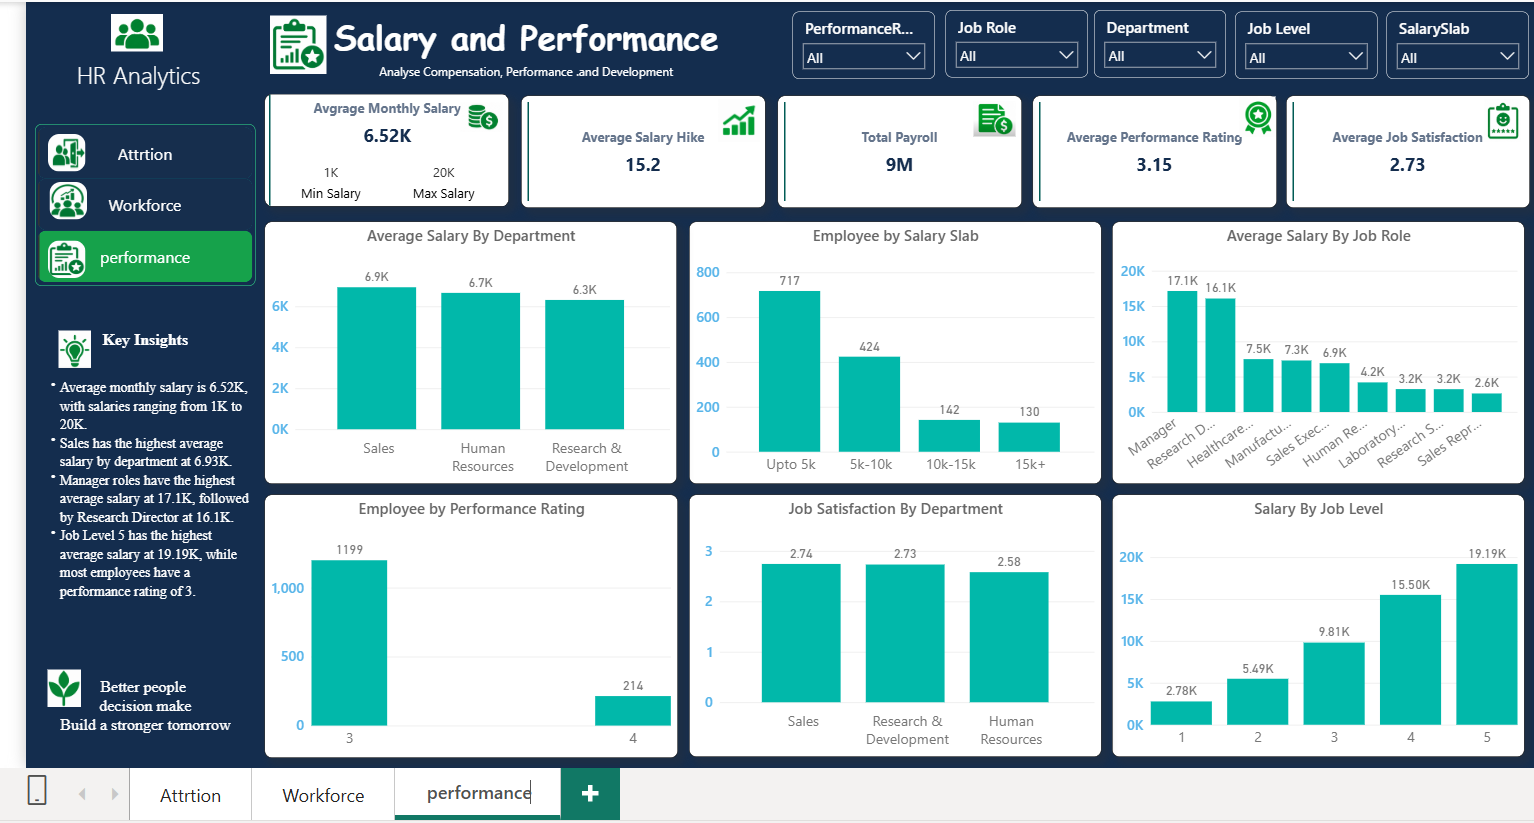

What the dashboard file says about the page in this screenshot:
{"tool":"powerbi","page":{"name":"performance","canvas":[2015,1023],"ordinal":2},"visuals":[{"type":"textbox","title":"Salary and Performance","box":[318,16,698,90],"z":0},{"type":"cardVisual","fields":{"Data":["HR_Analytics.Avg Performance Rating"]},"box":[1342,126,326,150],"z":1000},{"type":"slicer","fields":{"Values":["HR_Analytics.Department"]},"box":[1424,12,176,90],"z":2000},{"type":"cardVisual","fields":{"Data":["HR_Analytics.Avg Job Satisfaction"]},"box":[1680,126,325,150],"z":3000},{"type":"columnChart","title":" Employee by Salary Slab","fields":{"Category":["HR_Analytics.SalarySlab"],"Y":["Count(HR_Analytics.EmpID)"]},"box":[884,294,550,350],"z":4000},{"type":"columnChart","title":"Average Salary By Department","fields":{"Category":["HR_Analytics.Department"],"Y":["HR_Analytics.Avg Salary"]},"box":[318,294,550,350],"z":5000},{"type":"clusteredColumnChart","title":"Average Salary By Job Role","fields":{"Y":["HR_Analytics.Avg Salary"],"Category":["HR_Analytics.JobRole"]},"box":[1448,294,550,350],"z":6000},{"type":"cardVisual","fields":{"Data":["HR_Analytics.Total Payroll"]},"box":[1002,126,326,150],"z":7000},{"type":"clusteredColumnChart","title":"Employee by Performance Rating","fields":{"Y":["CountNonNull(HR_Analytics.EmpID)"],"Category":["HR_Analytics.PerformanceRating"]},"box":[317.8,657.8,551.1,351.1],"z":8000},{"type":"columnChart","title":"Salary By Job Level","fields":{"Y":["Avg(HR_Analytics.MonthlyIncome)"],"Category":["HR_Analytics.JobLevel"]},"box":[1448,658,550,350],"z":9000},{"type":"cardVisual","fields":{"Data":["HR_Analytics.Avg Salary"]},"box":[318,124,326,150],"z":10000},{"type":"slicer","fields":{"Values":["HR_Analytics.SalarySlab"]},"box":[1814,14,190,90],"z":11000},{"type":"slicer","fields":{"Values":["HR_Analytics.JobLevel"]},"box":[1612,14,190,90],"z":12000},{"type":"slicer","fields":{"Values":["HR_Analytics.PerformanceRating"]},"box":[1022,14,190,90],"z":13000},{"type":"slicer","fields":{"Values":["HR_Analytics.JobRole"]},"box":[1226,12,190,90],"z":14000},{"type":"columnChart","title":"Job Satisfaction By Department","fields":{"Category":["HR_Analytics.Department"],"Y":["Avg(HR_Analytics.JobSatisfaction)"]},"box":[884,658,550,350],"z":15000},{"type":"image","box":[1610,122,64,64],"z":16000},{"type":"image","box":[1258,124,66,66],"z":17000},{"type":"image","box":[920,124,65,65],"z":18000},{"type":"image","box":[1936,126,66,66],"z":19000},{"type":"image","box":[318,14,90,88],"z":20000},{"type":"textbox","box":[12,434,294,422],"z":21000},{"type":"cardVisual","fields":{"Data":["HR_Analytics.Average Salary Hike"]},"box":[660,126,326,150],"z":22000},{"type":"image","box":[918,126,66,66],"z":23000},{"type":"image","box":[574,122,66,66],"z":24000},{"type":"pageNavigator","box":[12,164,294,216],"z":25000},{"type":"textbox","box":[12,14,276,110],"z":26000},{"type":"image","box":[108,12,80,60],"z":27000},{"type":"image","box":[24,172,60,60],"z":28000},{"type":"image","box":[24,314,60,60],"z":29000},{"type":"image","box":[26,236,60,60],"z":30000},{"type":"textbox","box":[12,878,294,130],"z":31000},{"type":"image","box":[18,886,66,60],"z":32000},{"type":"image","box":[32,434,66,60],"z":33000}]}

Visuals, with their boxes on the page's 2015x1023 design canvas (x1, y1, x2, y2). These are canvas units, not pixel positions in the 1534x823 screenshot, which may show the page scaled, cropped or inside an application window:
"Salary and Performance" textbox: l=318, t=16, r=1016, b=106
cardVisual - HR_Analytics.Avg Performance Rating: l=1342, t=126, r=1668, b=276
slicer - HR_Analytics.Department: l=1424, t=12, r=1600, b=102
cardVisual - HR_Analytics.Avg Job Satisfaction: l=1680, t=126, r=2005, b=276
" Employee by Salary Slab" columnChart: l=884, t=294, r=1434, b=644
"Average Salary By Department" columnChart: l=318, t=294, r=868, b=644
"Average Salary By Job Role" clusteredColumnChart: l=1448, t=294, r=1998, b=644
cardVisual - HR_Analytics.Total Payroll: l=1002, t=126, r=1328, b=276
"Employee by Performance Rating" clusteredColumnChart: l=318, t=658, r=869, b=1009
"Salary By Job Level" columnChart: l=1448, t=658, r=1998, b=1008
cardVisual - HR_Analytics.Avg Salary: l=318, t=124, r=644, b=274
slicer - HR_Analytics.SalarySlab: l=1814, t=14, r=2004, b=104
slicer - HR_Analytics.JobLevel: l=1612, t=14, r=1802, b=104
slicer - HR_Analytics.PerformanceRating: l=1022, t=14, r=1212, b=104
slicer - HR_Analytics.JobRole: l=1226, t=12, r=1416, b=102
"Job Satisfaction By Department" columnChart: l=884, t=658, r=1434, b=1008
image: l=1610, t=122, r=1674, b=186
image: l=1258, t=124, r=1324, b=190
image: l=920, t=124, r=985, b=189
image: l=1936, t=126, r=2002, b=192
image: l=318, t=14, r=408, b=102
textbox: l=12, t=434, r=306, b=856
cardVisual - HR_Analytics.Average Salary Hike: l=660, t=126, r=986, b=276
image: l=918, t=126, r=984, b=192
image: l=574, t=122, r=640, b=188
pageNavigator: l=12, t=164, r=306, b=380
textbox: l=12, t=14, r=288, b=124
image: l=108, t=12, r=188, b=72
image: l=24, t=172, r=84, b=232
image: l=24, t=314, r=84, b=374
image: l=26, t=236, r=86, b=296
textbox: l=12, t=878, r=306, b=1008
image: l=18, t=886, r=84, b=946
image: l=32, t=434, r=98, b=494
